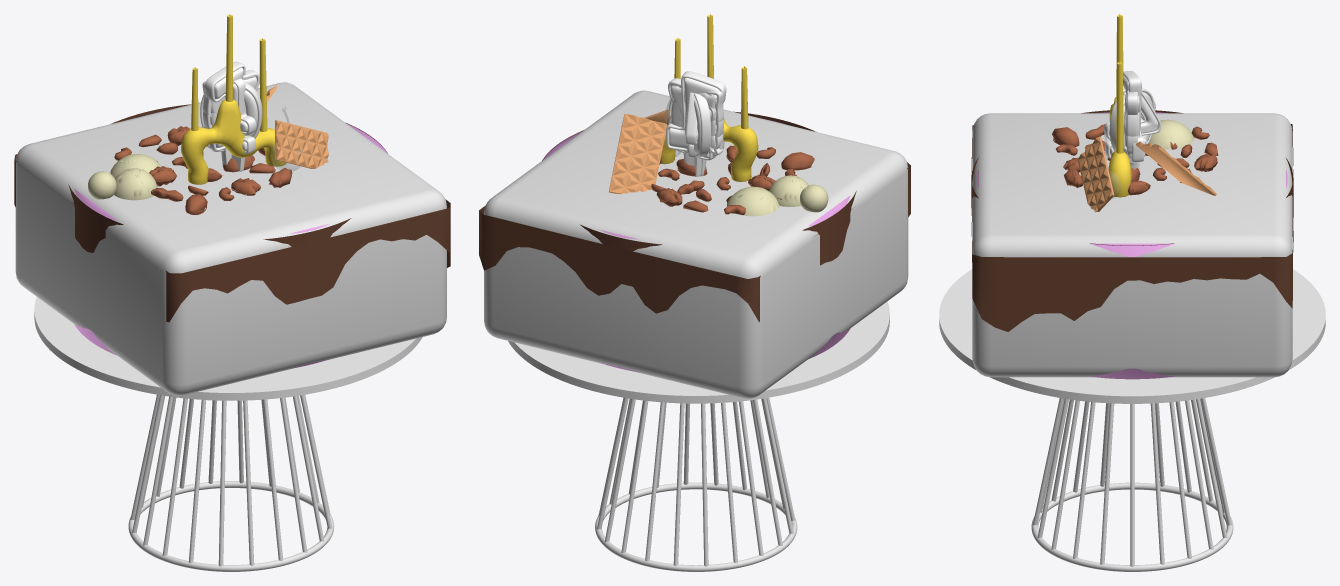
Rendered from capsB.gltf.
3 renders of one model, left to right at view 1: azimuth 30°, elevation 25°; view 2: azimuth 150°, elevation 25°; view 3: azimuth 270°, elevation 25°, orthographic.
Visible parts, largest first — view 1: Rectangle1st_layer, Base-2, icing_rectangle, chandel, nuts, icing_round, balls, bar, candle_1, candle_4, round1st_layer, candle_0; view 2: Rectangle1st_layer, Base-2, icing_rectangle, bar, nuts, chandel, balls, icing_round, candle_1, candle_0, round1st_layer, candle_7 (+1 smaller); view 3: Rectangle1st_layer, Base-2, icing_rectangle, bar, nuts, chandel, round1st_layer, balls, candle_4, candle_1, candle_0, icing_round.
Part boxes in pixels (x1,y1,x2,y2): Rectangle1st_layer: (15, 82, 446, 395); Base-2: (34, 297, 422, 571); icing_rectangle: (14, 154, 450, 322); chandel: (181, 14, 286, 184); nuts: (114, 126, 292, 214); icing_round: (68, 104, 387, 258); balls: (88, 154, 161, 200); bar: (266, 85, 328, 168); candle_1: (205, 61, 245, 168); candle_4: (231, 78, 256, 171); round1st_layer: (74, 111, 387, 368); candle_0: (200, 83, 262, 138); Rectangle1st_layer: (484, 90, 908, 398); Base-2: (508, 301, 889, 571); icing_rectangle: (479, 162, 910, 321); bar: (609, 109, 668, 194); nuts: (651, 145, 814, 214); chandel: (660, 14, 758, 181); balls: (727, 175, 828, 216); icing_round: (542, 111, 856, 265); candle_1: (666, 71, 726, 175); candle_0: (694, 93, 710, 176); round1st_layer: (542, 118, 850, 372); candle_7: (668, 78, 723, 176); Rectangle1st_layer: (972, 113, 1292, 377); Base-2: (939, 269, 1325, 571); icing_rectangle: (971, 124, 1293, 331); bar: (1077, 136, 1216, 212); nuts: (1052, 124, 1218, 195); chandel: (1108, 14, 1131, 197); round1st_layer: (977, 112, 1287, 379); balls: (1148, 101, 1193, 149); candle_4: (1104, 85, 1160, 158); candle_1: (1123, 71, 1145, 167); candle_0: (1109, 88, 1155, 169); icing_round: (971, 110, 1293, 245).
Bounding box in the file's own units: 2.3 × 3.36 × 2.3.
